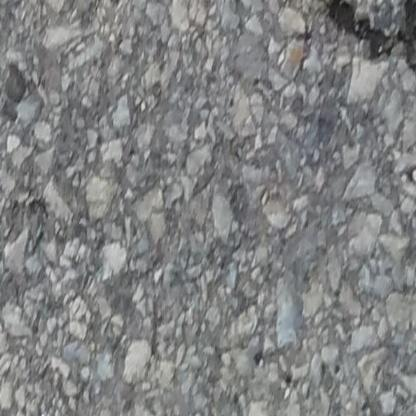Cracks: (326, 0, 416, 89)
